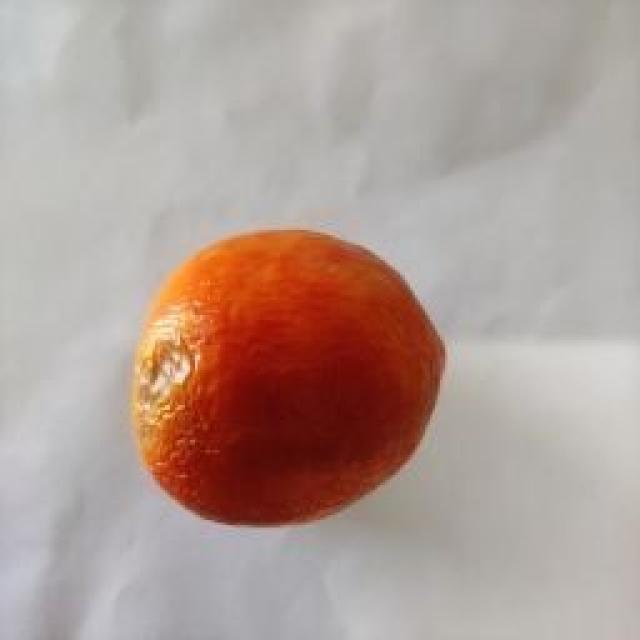overripe: (130, 224, 450, 530)
